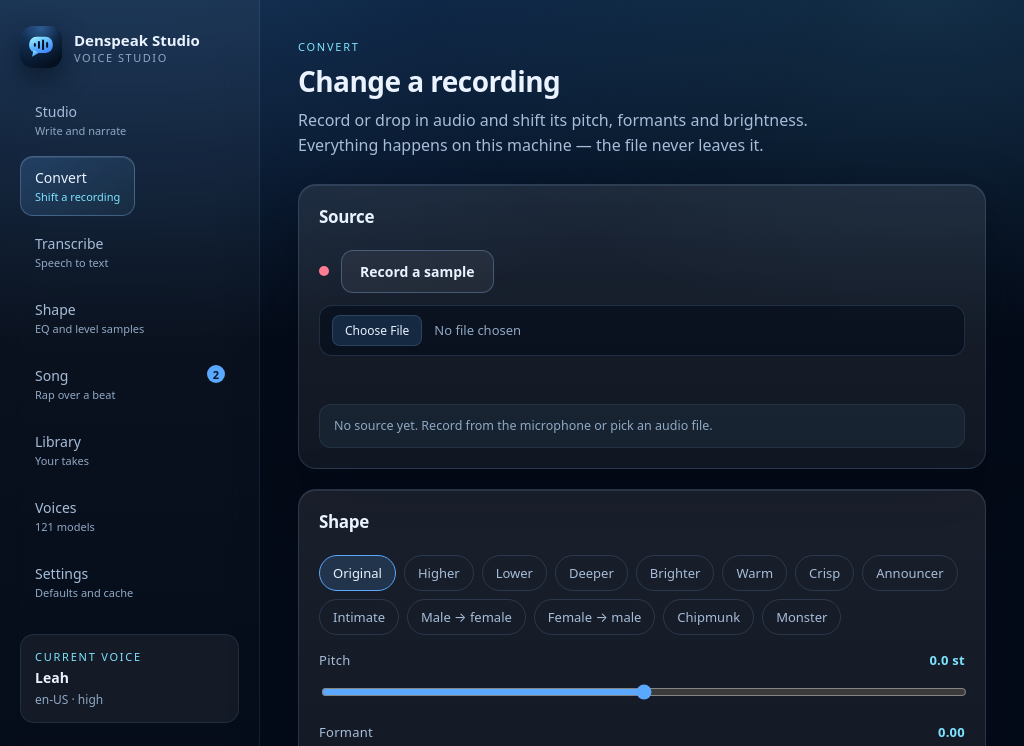
Test: hand-off navigation › says a take is still queued when the store hangs on a discard
Click the button named "2 takes waiting for Song" at (216, 374), box [207, 365, 225, 383]
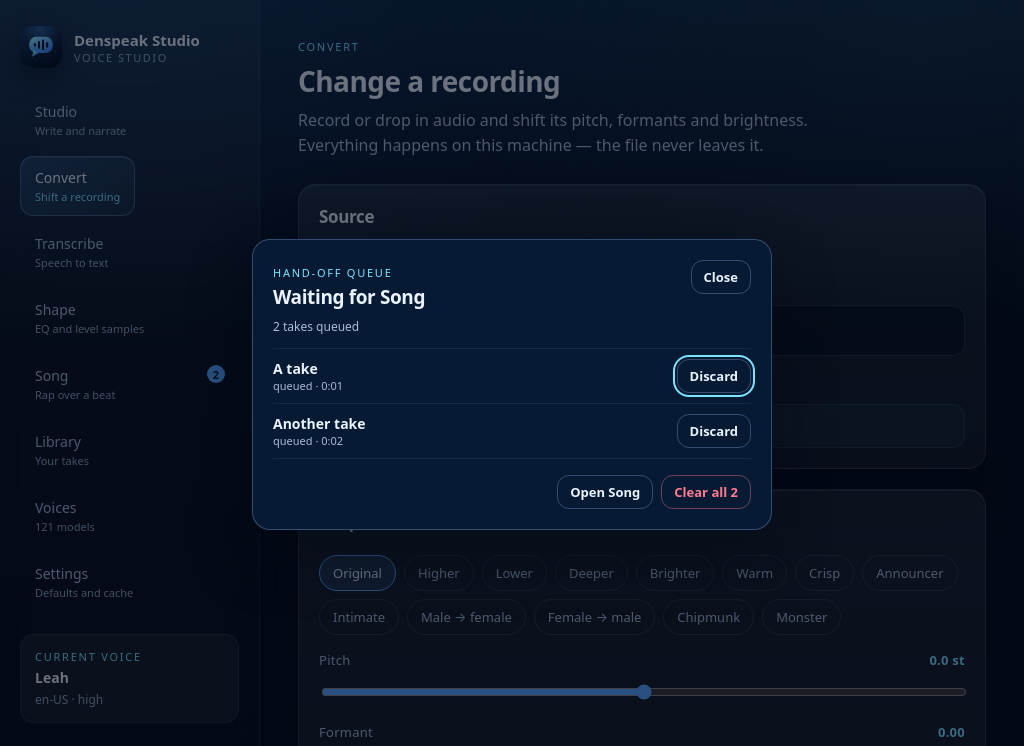
Click the button with aria-label "Discard A take" at (714, 376), box [676, 358, 751, 392]
Wait 50 ms
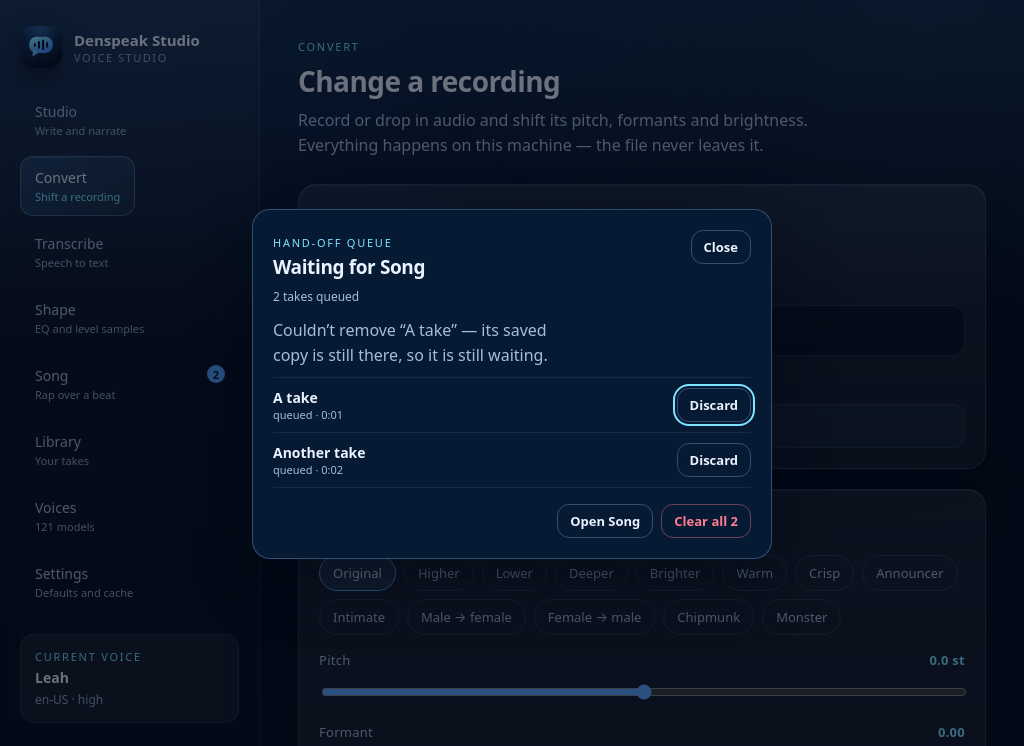
Result: the dialog "Waiting for Song" shows "A take" at [273, 388, 318, 407]
Result: the dialog "Waiting for Song" shows "Another take" at [273, 443, 366, 462]
Result: the text "its saved copy is still there" is shown at [273, 319, 548, 366]
